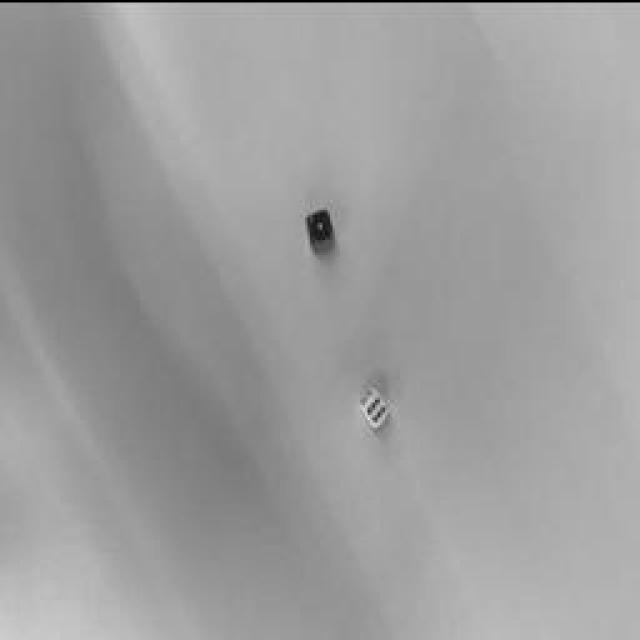dice_1: (308, 208, 332, 238)
dice_6: (365, 388, 390, 428)
